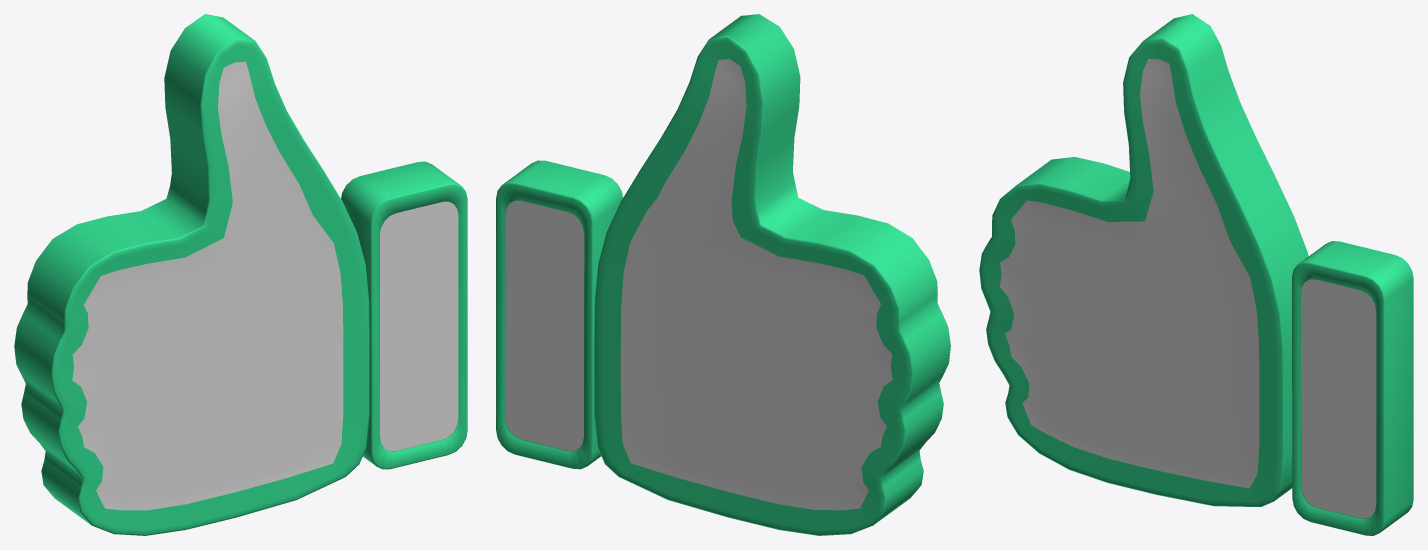
Rendered from Like.fbx.
3 renders of one model, left to right at view 1: azimuth 30°, elevation 25°; view 2: azimuth 150°, elevation 25°; view 3: azimuth 330°, elevation 25°, orthographic. The views are drawn at different scales.
Visible parts, largest first — view 1: Like; view 2: Like; view 3: Like.
Part boxes in pixels (left/top/right/bottom): Like: left=14, top=14, right=467, bottom=535; Like: left=496, top=14, right=950, bottom=535; Like: left=979, top=14, right=1413, bottom=535.
Size of the model in its own units: 48.64 by 52.87 by 7.62.
